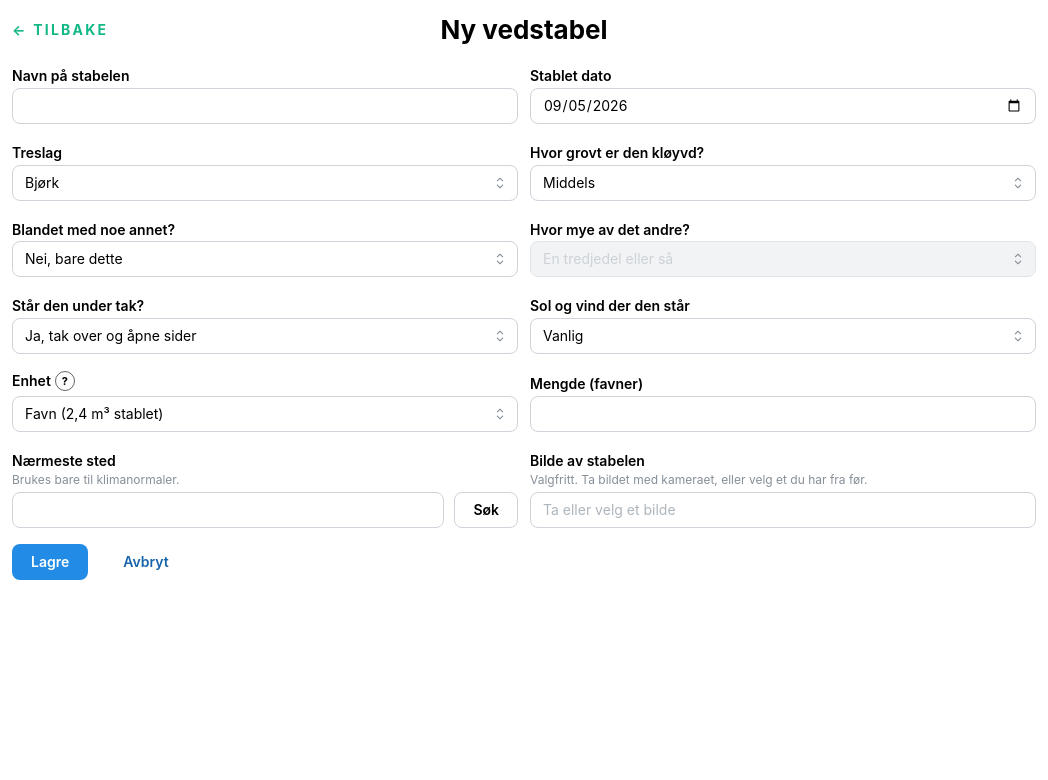
Test case: AddStackForm › tells matches apart that would otherwise read alike
The width and height of the screenshot is (1048, 780).
Type "Oslo" into the dropdown labelled "Nærmeste sted" at (228, 510), box x1=12 y1=492 x2=444 y2=528
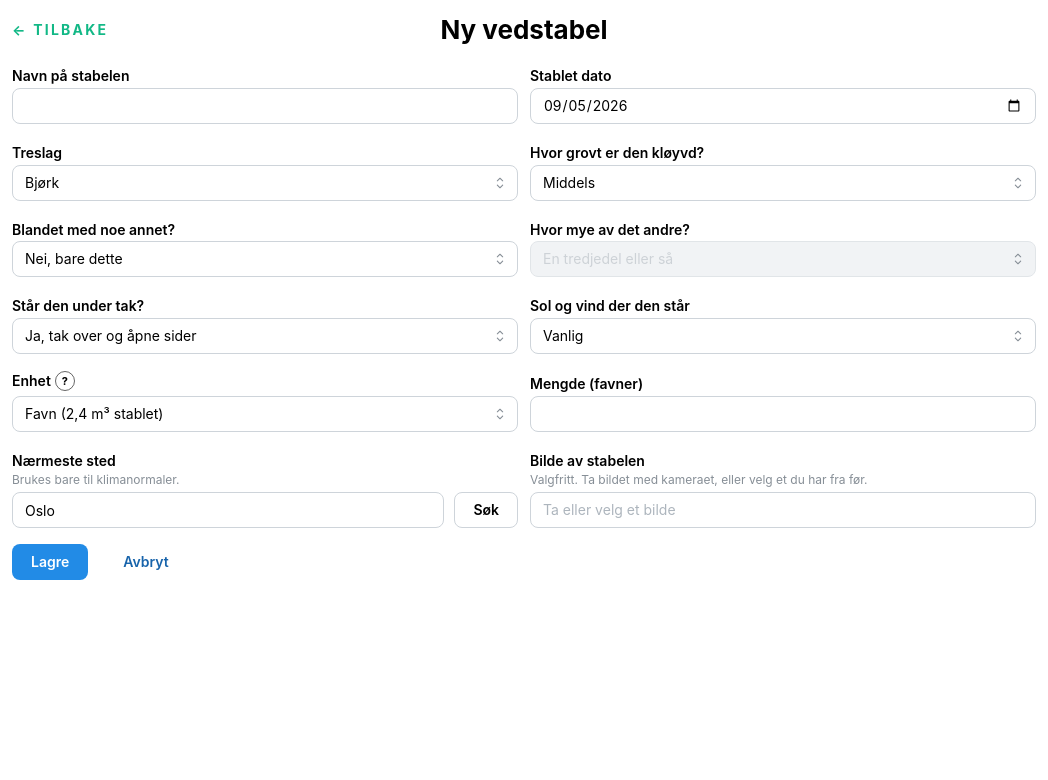
Click the button "Søk" at (486, 510), box x1=454 y1=492 x2=518 y2=528
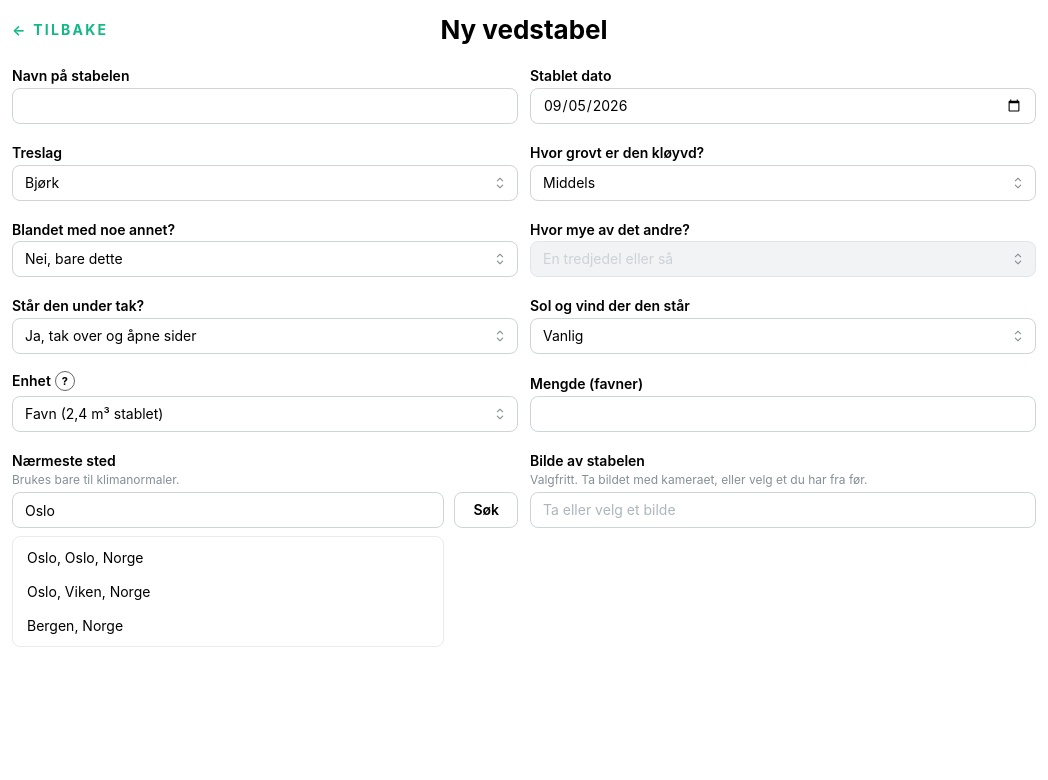
expect the option "Oslo, Oslo, Norge" is shown: met, box x1=27 y1=549 x2=143 y2=566
expect the option "Oslo, Viken, Norge" is shown: met, box x1=27 y1=583 x2=150 y2=600
expect the option "Bergen, Norge" is shown: met, box x1=27 y1=616 x2=123 y2=634
